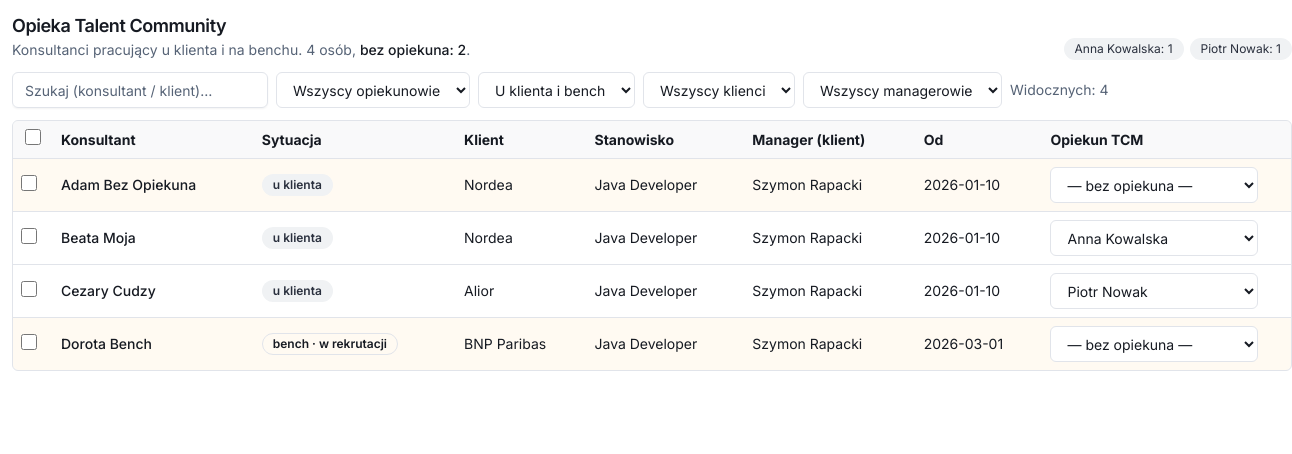
Scenario: OpiekaPanel — masowe przypisanie › pasek masowy znika, gdy żaden zaznaczony nie jest widoczny
The width and height of the screenshot is (1292, 454).
Click the checkbox named "Zaznacz Adam Bez Opiekuna": (29, 182) [21,174,37,190]
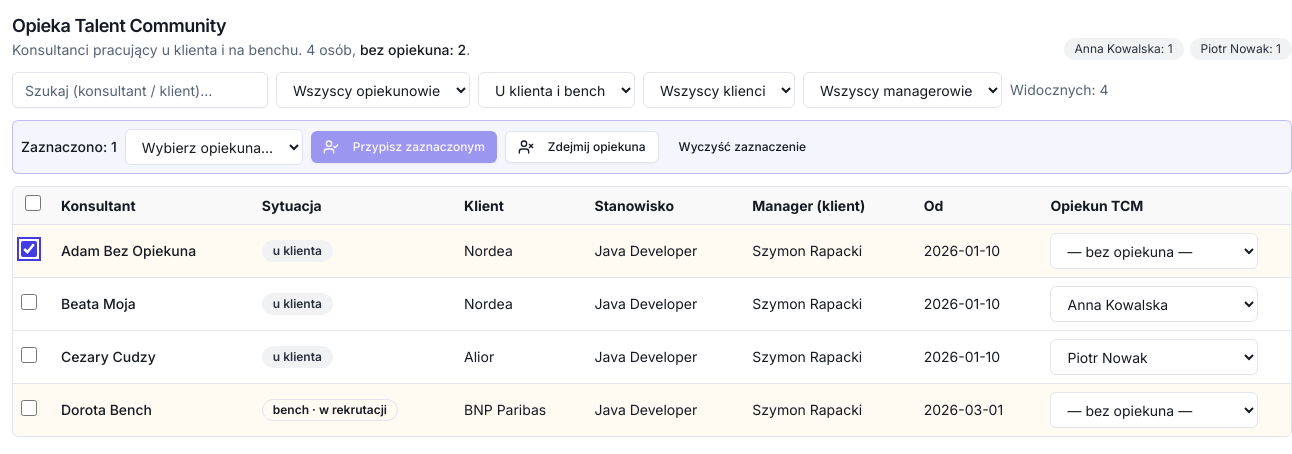
Expected: the text "Zaznaczono: 1" is shown, [21,137,117,157]
Select "Alior" in the dropdown named "Klient": (719, 90) [643,72,795,108]
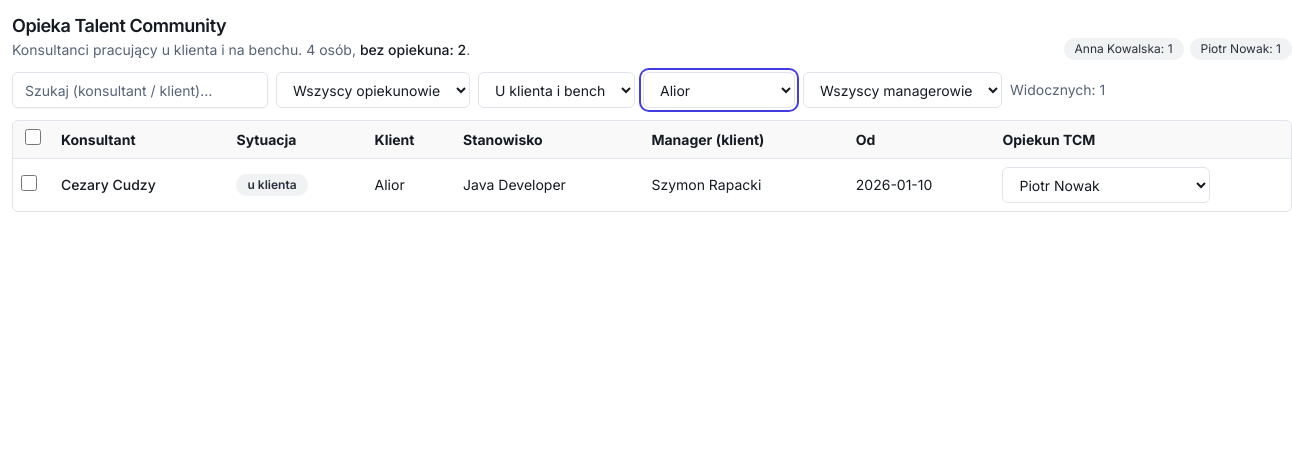
Expected: the text "Zaznaczono:" is gone
